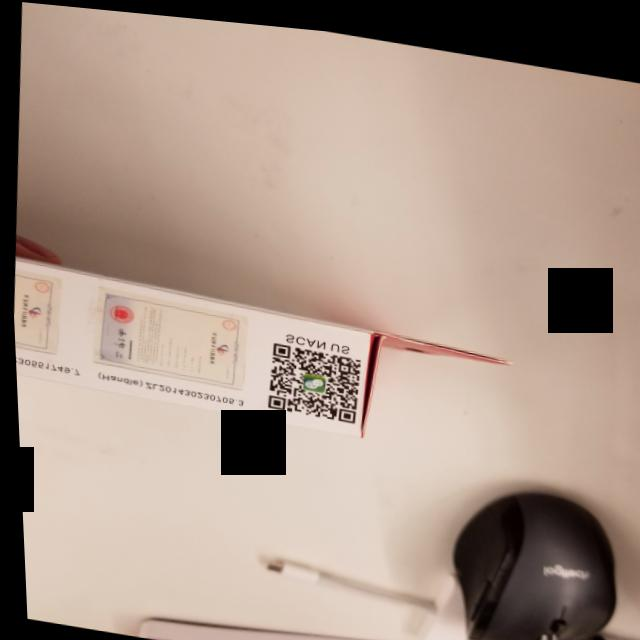QR_CODE: (249, 324, 372, 429)
